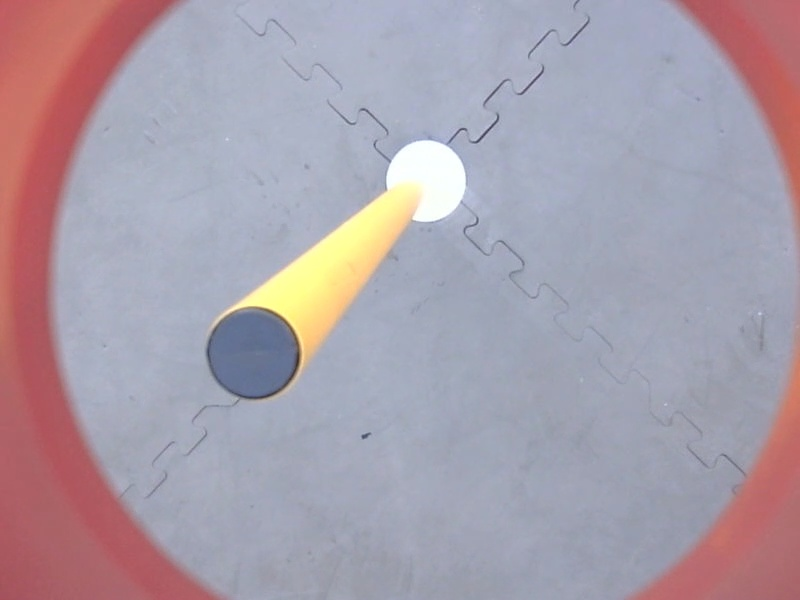tip: (200, 300, 309, 407)
